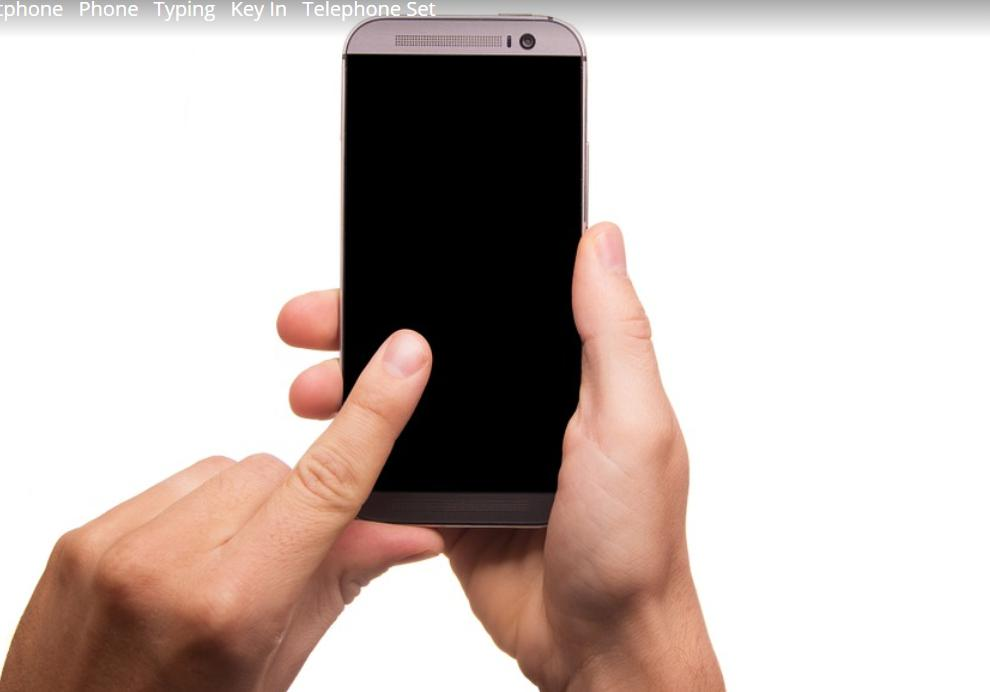mobile: (344, 17, 588, 526)
